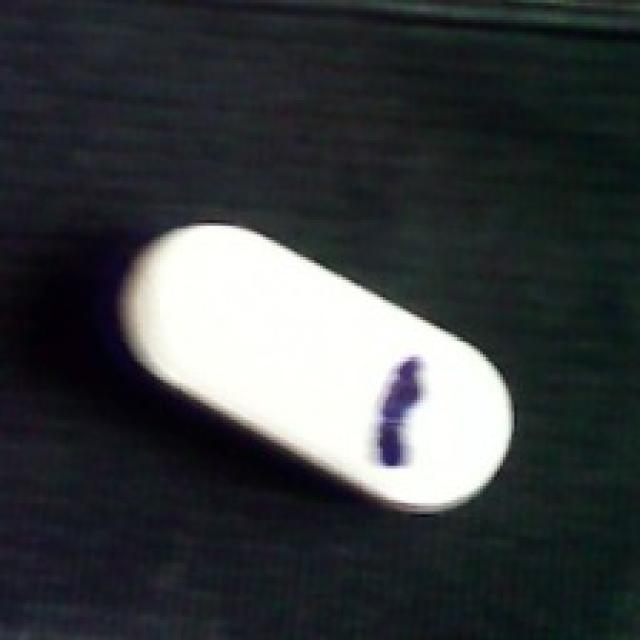defected: (106, 218, 520, 517)
